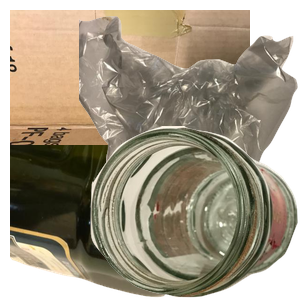cardboard: (10, 10, 250, 190)
glass: (90, 126, 300, 300)
plastic: (10, 145, 213, 300)
trash: (79, 14, 300, 194)
